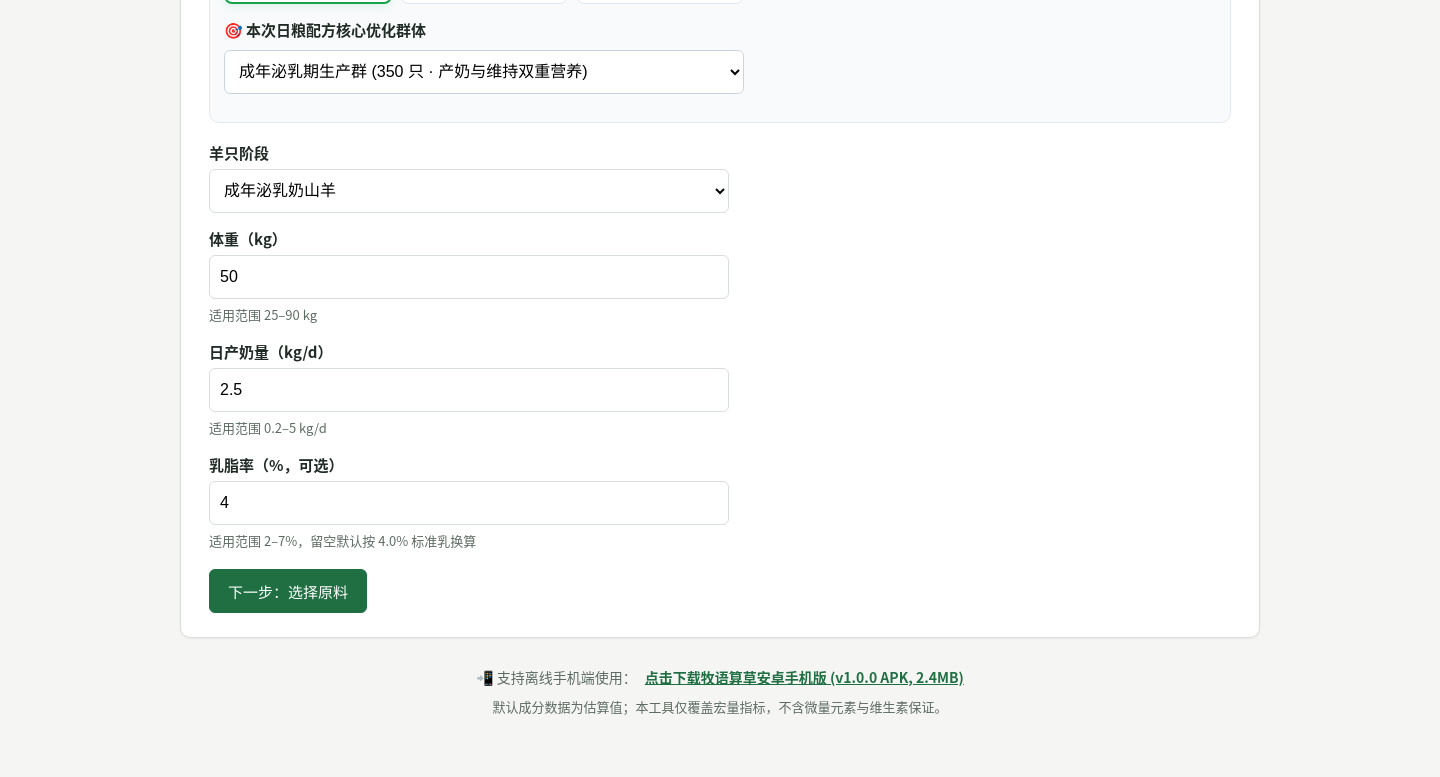
Test: App 三步流程 › 上下界双重贴边合并为一句解释
(page scrolled)
What coordinates should you click on to do the following:
click the button "下一步：选择原料"
I would click on:
 (288, 591)
Its box is top-left (209, 569), bottom-right (367, 613).
(page scrolled)
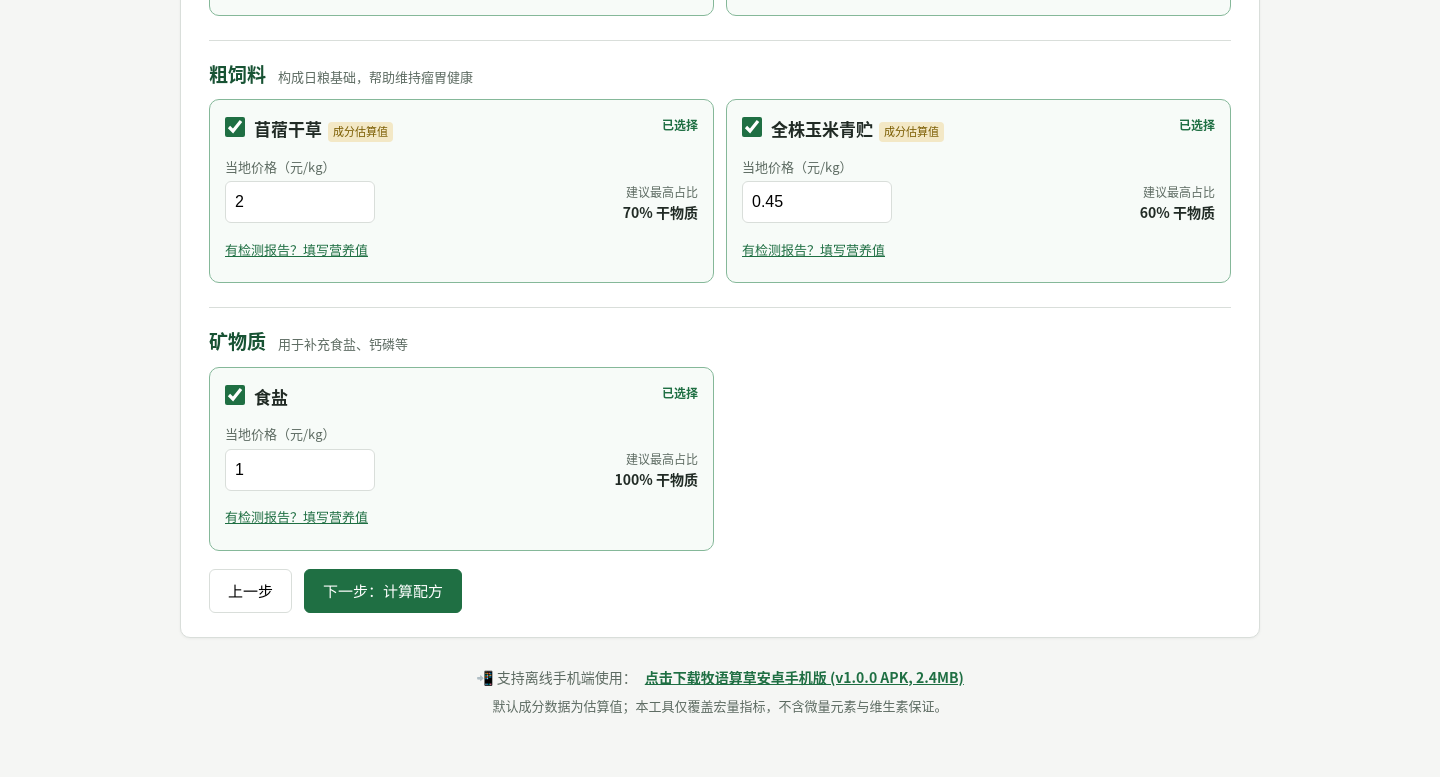
What coordinates should you click on to do the following:
click the button "下一步：计算配方"
I would click on:
 (383, 591)
Its box is top-left (304, 569), bottom-right (462, 613).
(page scrolled)
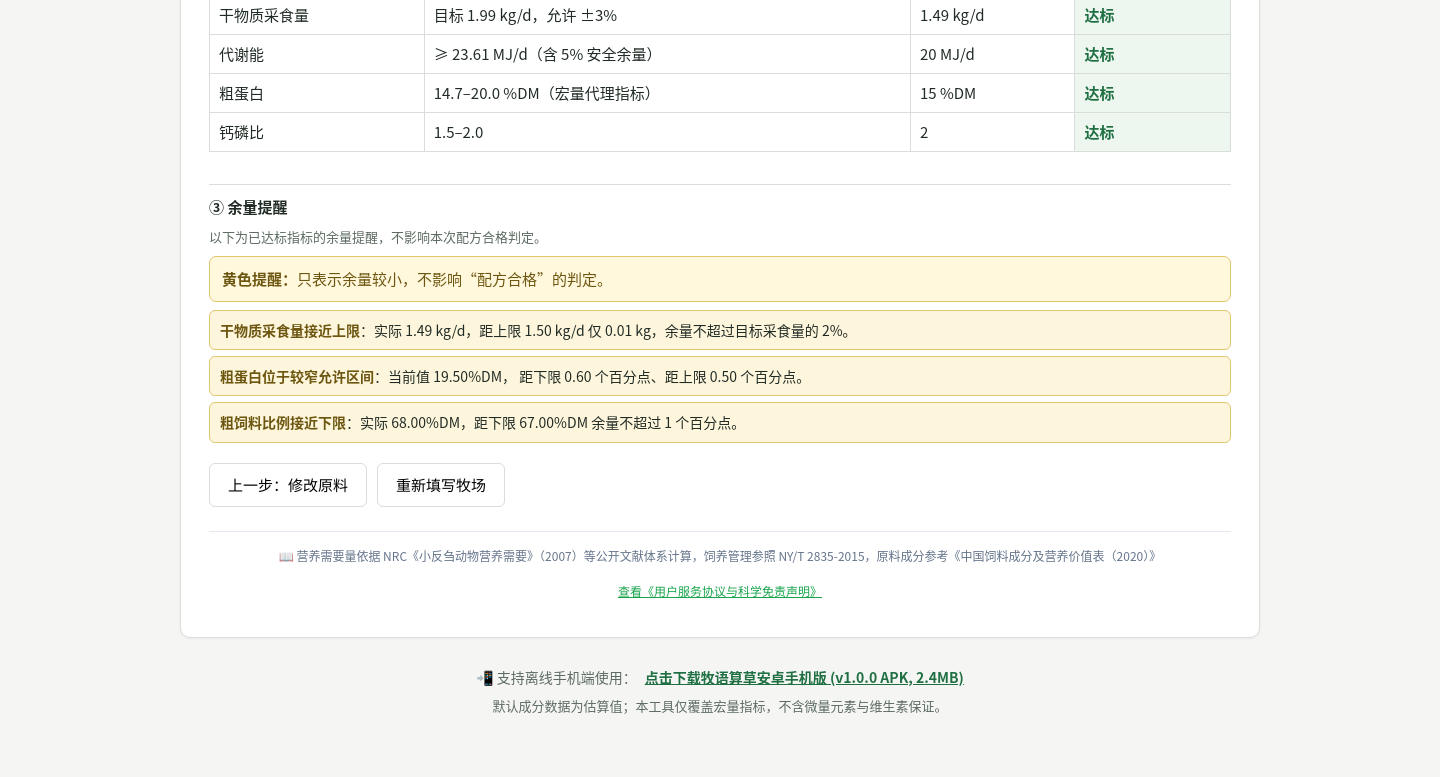
Result: the text "粗蛋白位于较窄允许区间" is shown at top-left (220, 366), bottom-right (374, 386)
Result: the list item "粗蛋白位于较窄允许区间：当前值 19.50%DM， 距下限 0.60 个百分点、距上限 0.50 个百分点。" is shown at top-left (209, 356), bottom-right (1231, 396)
